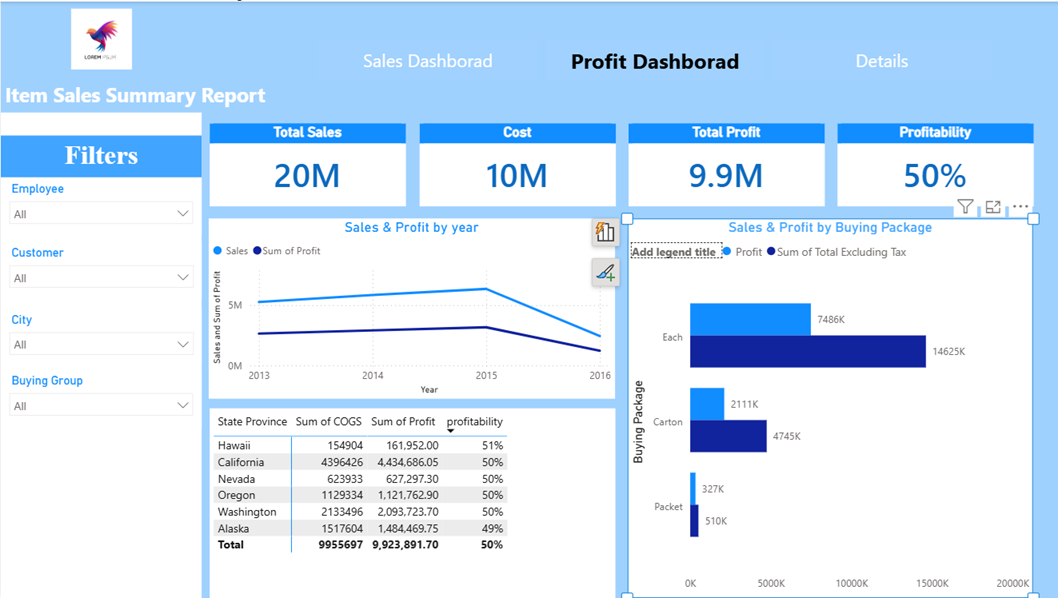

This screenshot's page, from the dashboard's own definition file:
{"tool":"powerbi","page":{"name":"Profit Dashborad","canvas":[1280,720],"ordinal":1},"visuals":[{"type":"shape","box":[0,0,1280,133.9],"z":0},{"type":"shape","box":[0,133.9,242.5,586.3],"z":1000},{"type":"textbox","box":[0,91.7,328.2,55.5],"z":2000},{"type":"image","box":[0,8.4,242.5,73.6],"z":3000},{"type":"cardVisual","title":"Total Sales","fields":{"Data":["Sum(FactSale.Total Excluding Tax)"]},"box":[252.1,147.2,236.5,100.1],"z":4000},{"type":"cardVisual","title":"Cost","fields":{"Data":["Sum(FactSale.COGS)"]},"box":[505.5,147.2,236.5,100.1],"z":5000},{"type":"cardVisual","title":"Total Profit","fields":{"Data":["Sum(FactSale.Profit)"]},"box":[757.6,147.2,236.5,100.1],"z":6000},{"type":"cardVisual","title":"Profitability","fields":{"Data":["FactSale.profitability"]},"box":[1009.8,147.2,236.5,100.1],"z":7000},{"type":"textbox","box":[0,161.7,242.5,50.7],"z":8000},{"type":"slicer","title":"Sum of Total Sales by Year","fields":{"Values":["DimEmployee.Employee"]},"box":[0,211.9,242.2,70.6],"z":9000},{"type":"clusteredBarChart","title":"Sales & Profit by Buying Package","fields":{"Y":["Sum(FactSale.Profit)","Sum(FactSale.Total Excluding Tax)"],"Category":["DimStockItem.Buying Package"]},"box":[756.4,261.8,489.8,458.4],"z":10000},{"type":"pivotTable","title":"Sum of Total Sales by Year","fields":{"Values":["Sum(FactSale.COGS)","Sum(FactSale.Profit)","FactSale.profitability"],"Rows":["DimCity.State Province"]},"box":[252.1,491,489.8,229.2],"z":11000},{"type":"lineChart","title":"Sales & Profit by year","fields":{"Category":["DimDate.Date.Variation.Date Hierarchy.Year","DimDate.Date.Variation.Date Hierarchy.Quarter","DimDate.Date.Variation.Date Hierarchy.Month","DimDate.Date.Variation.Date Hierarchy.Day"],"Y":["Sum(FactSale.Total Excluding Tax)","Sum(FactSale.Profit)"]},"box":[251.5,261.5,490.2,217.4],"z":12000},{"type":"slicer","title":"Sum of Total Sales by Year","fields":{"Values":["DimCustomer.Customer"]},"box":[0,289.5,242.5,70],"z":13000},{"type":"slicer","title":"Sum of Total Sales by Year","fields":{"Values":["DimCity.City"]},"box":[0,370.4,242.5,70],"z":14000},{"type":"slicer","title":"Sum of Total Sales by Year","fields":{"Values":["DimCustomer.Buying Group"]},"box":[0,444,242.2,70.6],"z":15000},{"type":"pageNavigator","box":[383.6,45.8,813.1,50.7],"z":16000}]}

Visuals, with their boxes in screenshot pixels (x1, y1, x2, y2), scaled from the page's 1280x720 canvas onto the 1058x598 screenshot:
shape: crop(0, 0, 1057, 111)
shape: crop(0, 111, 200, 597)
textbox: crop(0, 76, 271, 122)
image: crop(0, 7, 200, 68)
"Total Sales" cardVisual: crop(208, 122, 404, 205)
"Cost" cardVisual: crop(418, 122, 613, 205)
"Total Profit" cardVisual: crop(626, 122, 822, 205)
"Profitability" cardVisual: crop(835, 122, 1030, 205)
textbox: crop(0, 134, 200, 176)
"Sum of Total Sales by Year" slicer: crop(0, 176, 200, 235)
"Sales & Profit by Buying Package" clusteredBarChart: crop(625, 217, 1030, 597)
"Sum of Total Sales by Year" pivotTable: crop(208, 408, 613, 597)
"Sales & Profit by year" lineChart: crop(208, 217, 613, 398)
"Sum of Total Sales by Year" slicer: crop(0, 240, 200, 299)
"Sum of Total Sales by Year" slicer: crop(0, 308, 200, 366)
"Sum of Total Sales by Year" slicer: crop(0, 369, 200, 427)
pageNavigator: crop(317, 38, 989, 80)
